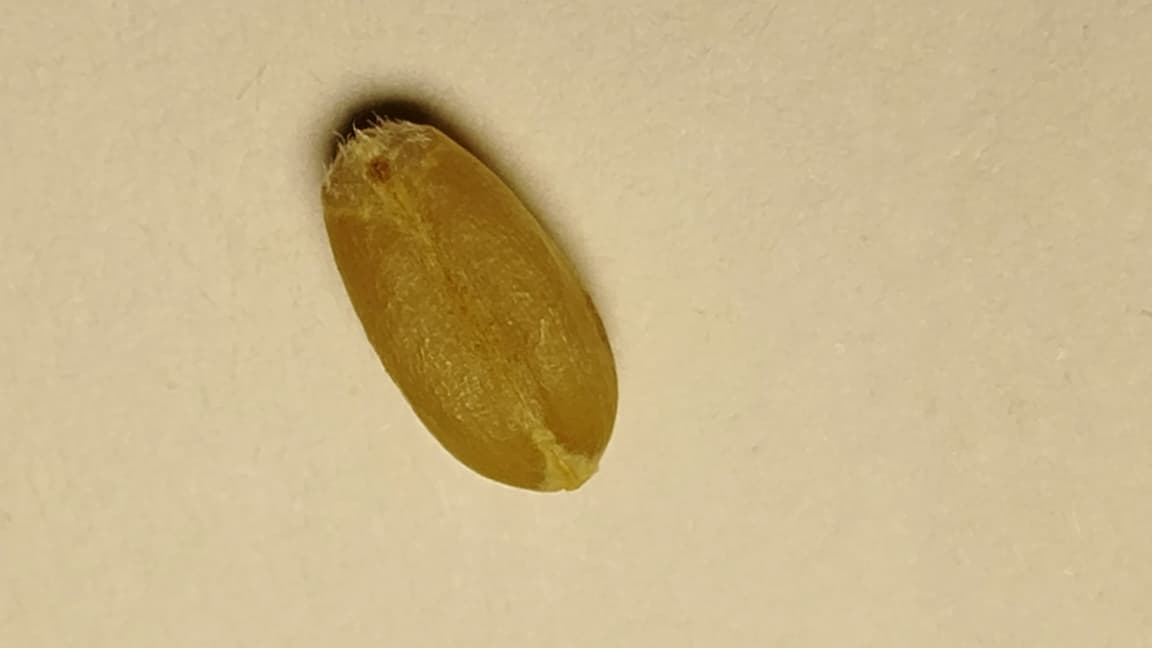healthy: (323, 121, 616, 489)
